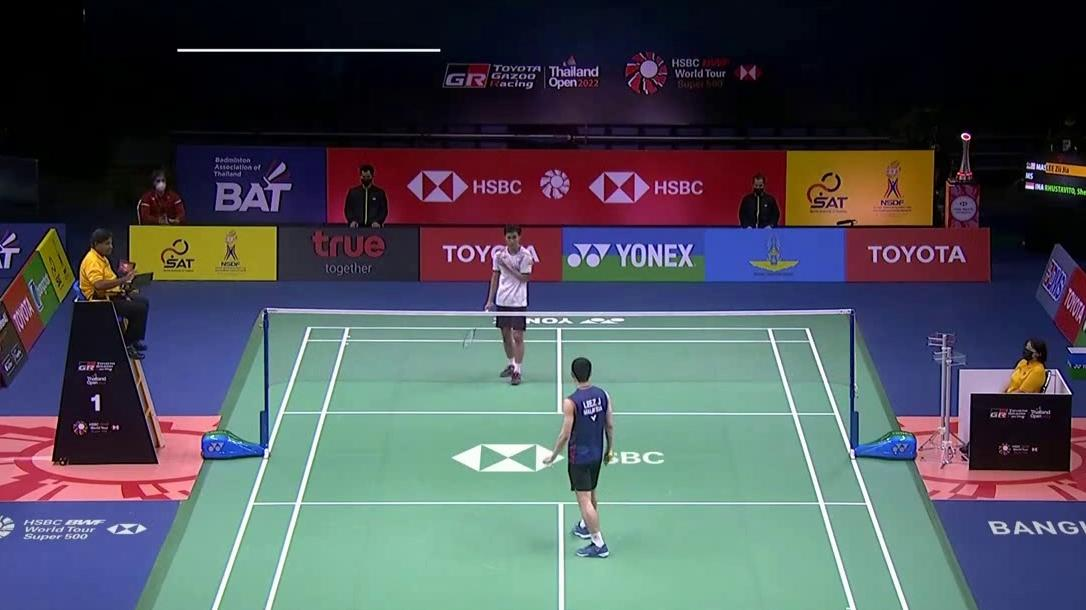racket: (463, 305, 490, 348)
shuttle: (542, 459, 555, 468)
